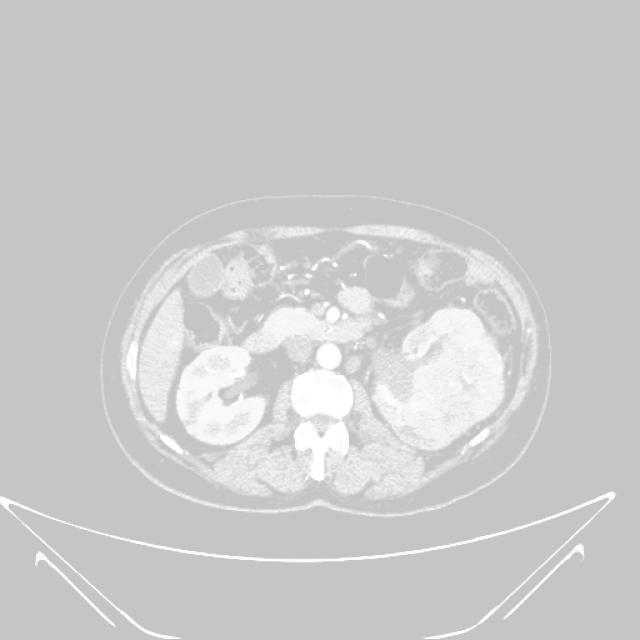TUMOR: (130, 234, 553, 465)
